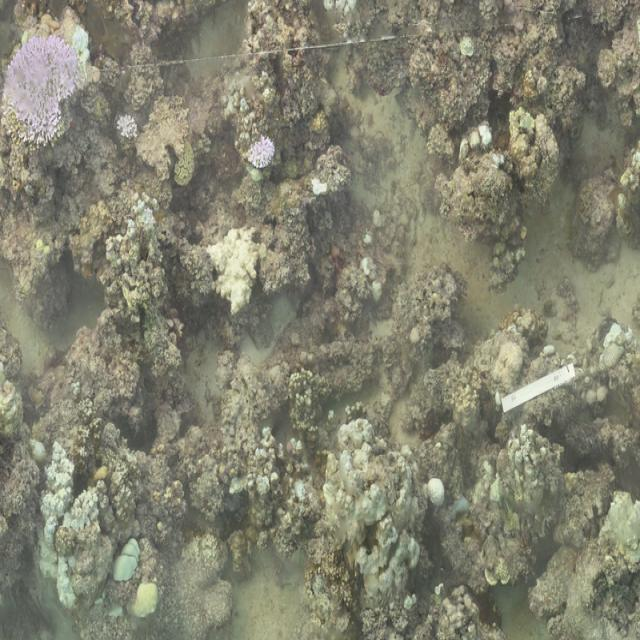Bleached Coral: (1, 28, 84, 140), (39, 450, 100, 523), (244, 131, 289, 179), (111, 105, 139, 150)
